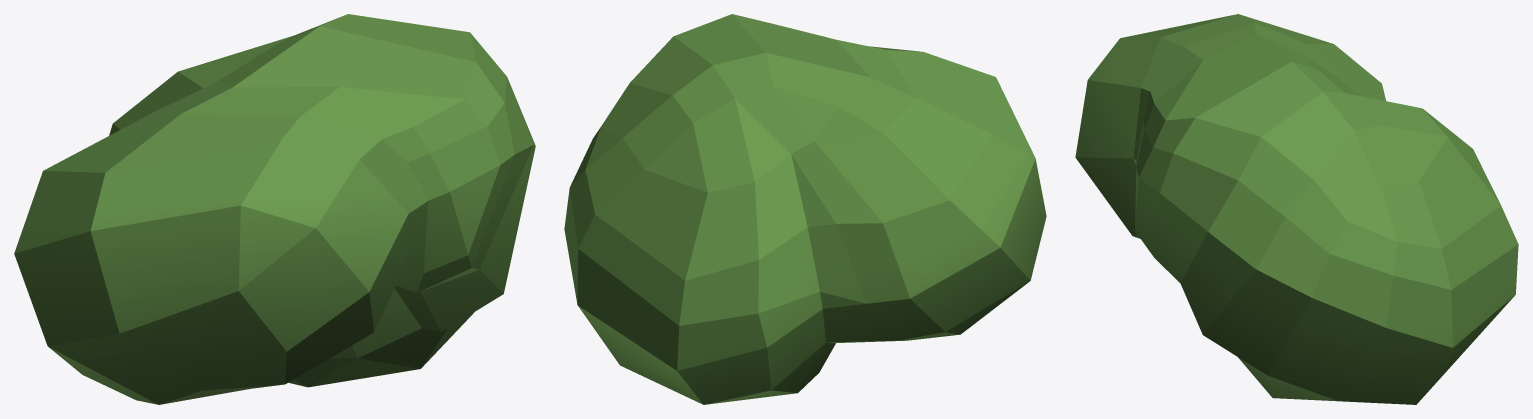
Rendered from Birch-Bush-08.fbx.
3 views of the same model, side by side, from view 1: azimuth 30°, elevation 25°; view 2: azimuth 150°, elevation 25°; view 3: azimuth 270°, elevation 25° (orthographic). The views are drawn at different scales.
Visible parts, largest first — view 1: Birch-Bush-08; view 2: Birch-Bush-08; view 3: Birch-Bush-08.
Part boxes in pixels (bbox=[...]): Birch-Bush-08: bbox=[14, 14, 535, 404]; Birch-Bush-08: bbox=[564, 14, 1046, 404]; Birch-Bush-08: bbox=[1075, 14, 1518, 404].
Size of the model in its own units: 440 by 315 by 398.
Materials: 1 (1 with a texture image).
